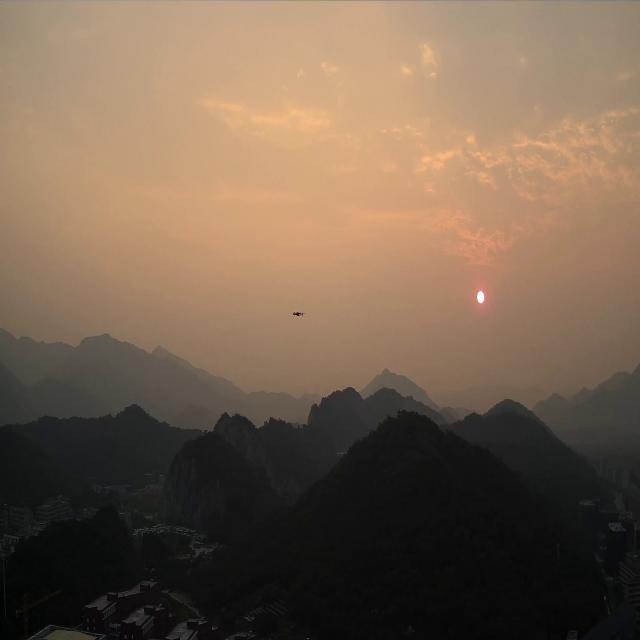UAV: (292, 310, 305, 318)
